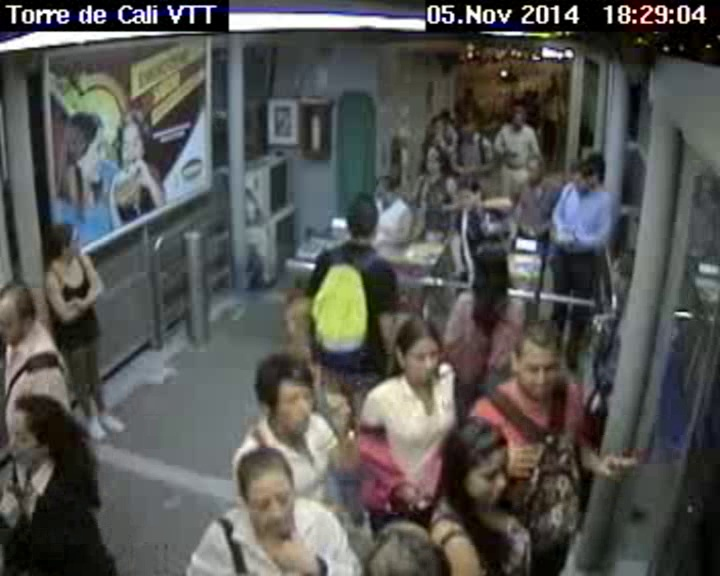person: (217, 447, 307, 545), (425, 407, 511, 504), (242, 348, 321, 447), (350, 516, 465, 576), (5, 391, 69, 472), (504, 320, 567, 401), (388, 306, 444, 393), (1, 272, 53, 341), (338, 192, 385, 252), (474, 236, 508, 310), (604, 244, 640, 306), (44, 220, 86, 265), (569, 159, 601, 198), (451, 176, 488, 209), (368, 173, 400, 200), (424, 143, 449, 176), (505, 102, 530, 131), (522, 153, 542, 184), (458, 114, 483, 136)
